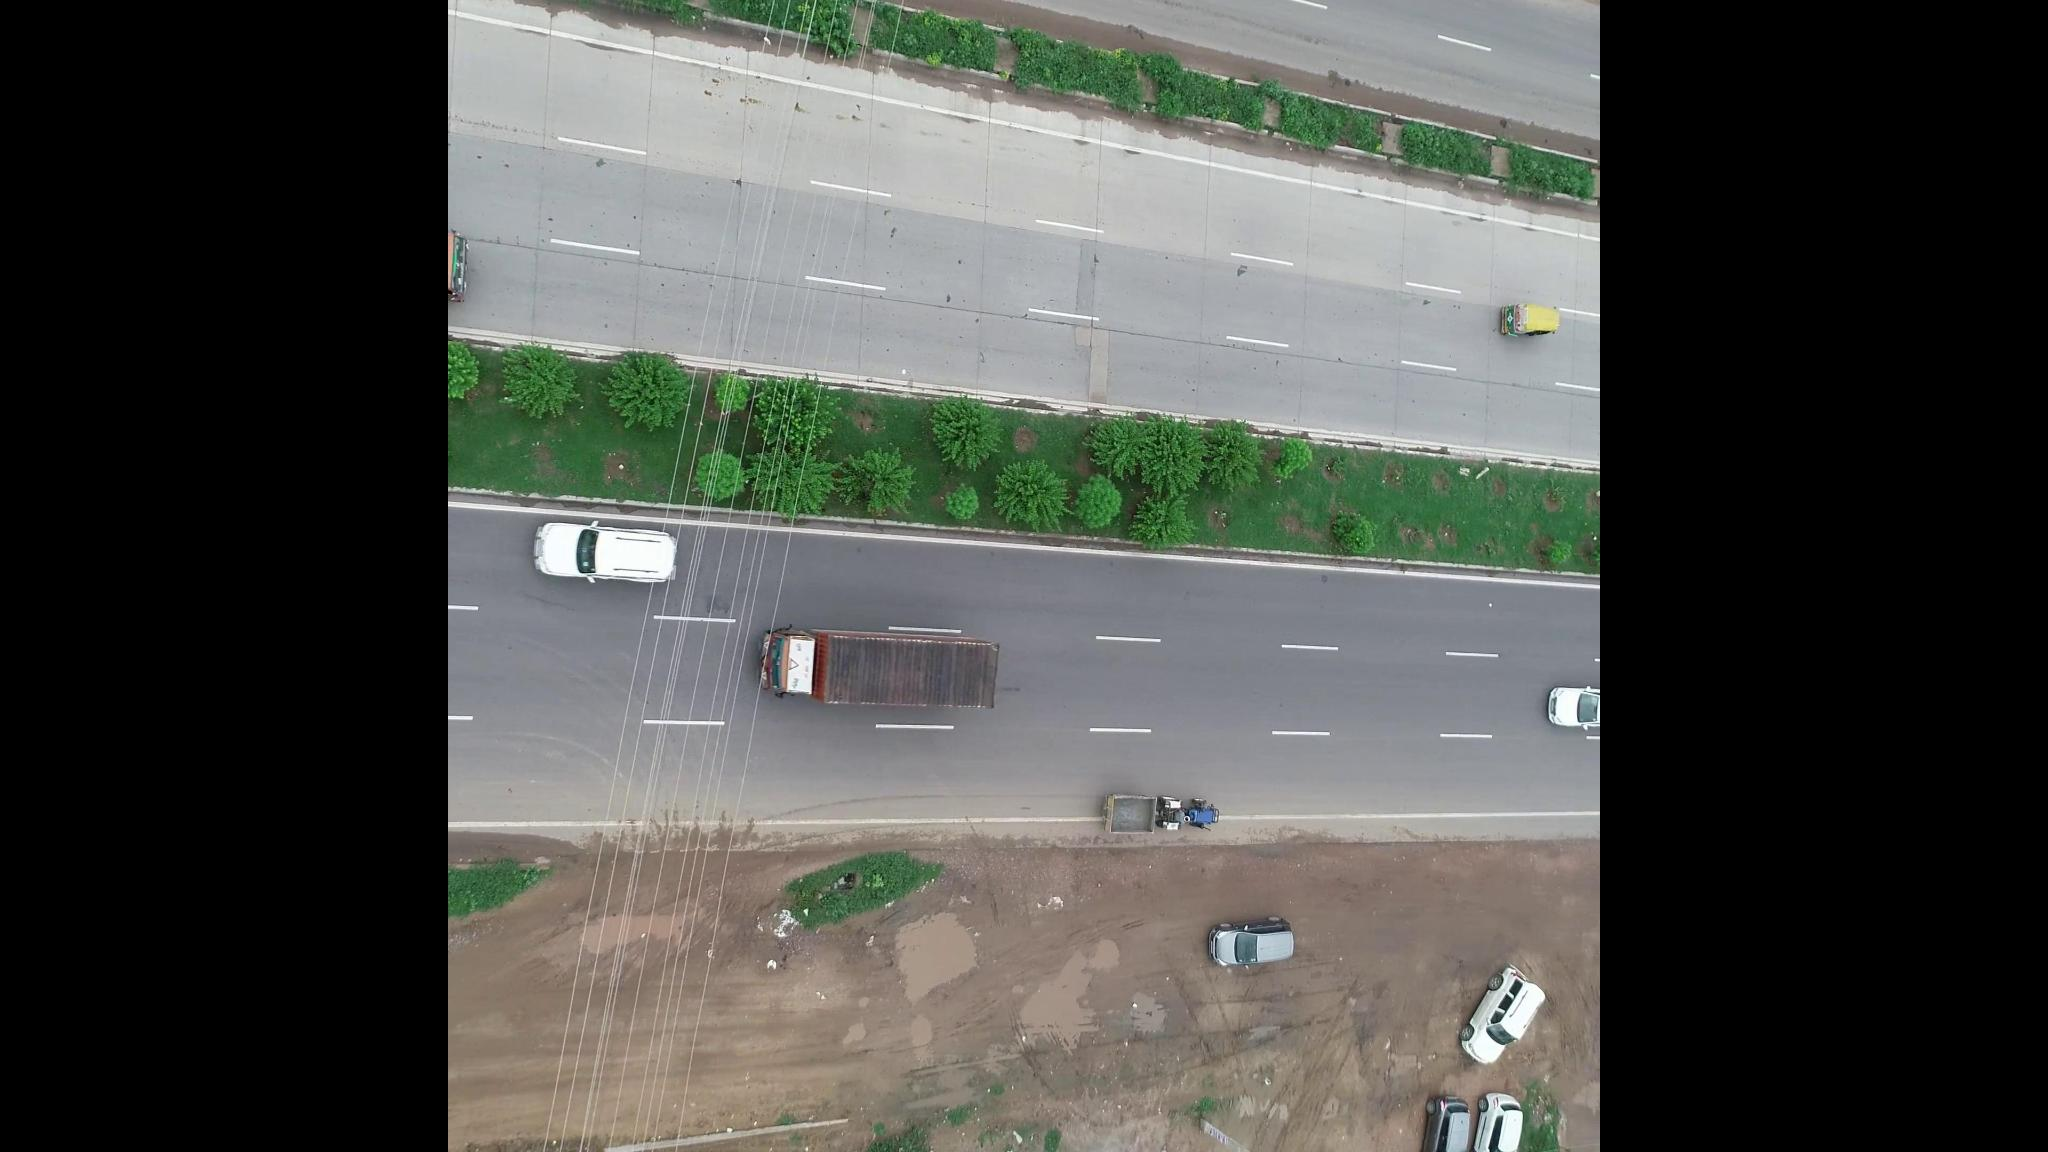Muddy_road: (453, 865, 865, 1122), (1329, 848, 1594, 1004)
Waterlogging: (888, 881, 1160, 1048)
